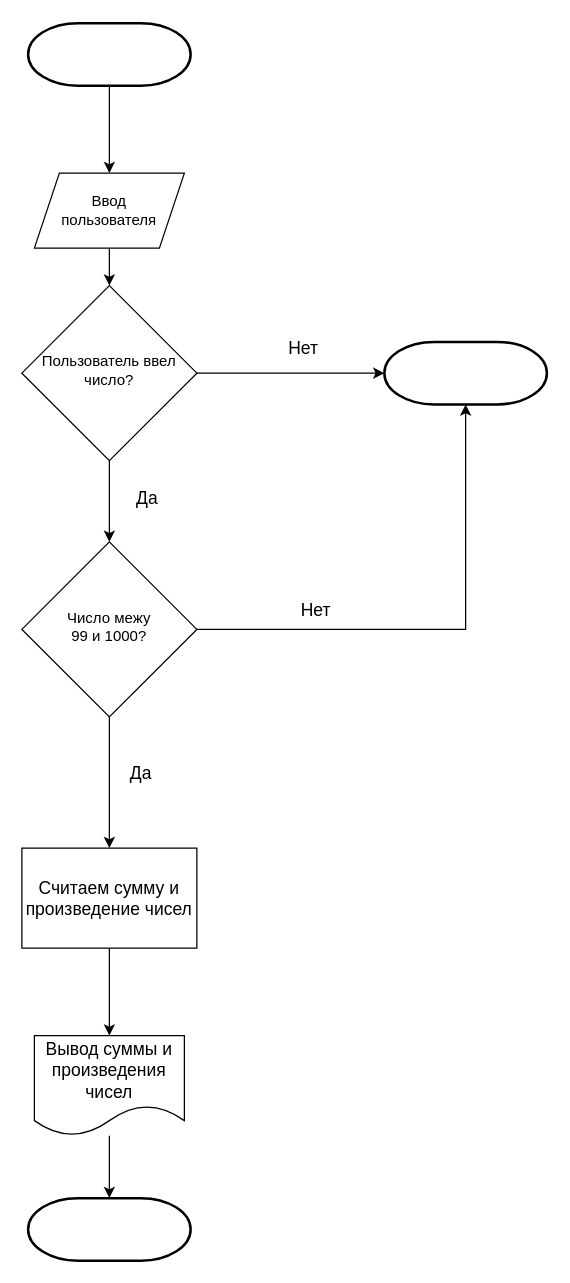
This 570x1283 diagram has some shape labels left out. The box of each missing label's shape, as (x1, y1, x2, y2) in pixels:
Конец: (26, 1196, 191, 1261)
Начало: (26, 21, 191, 86)
Ошибка, завершение программы: (382, 340, 548, 405)
